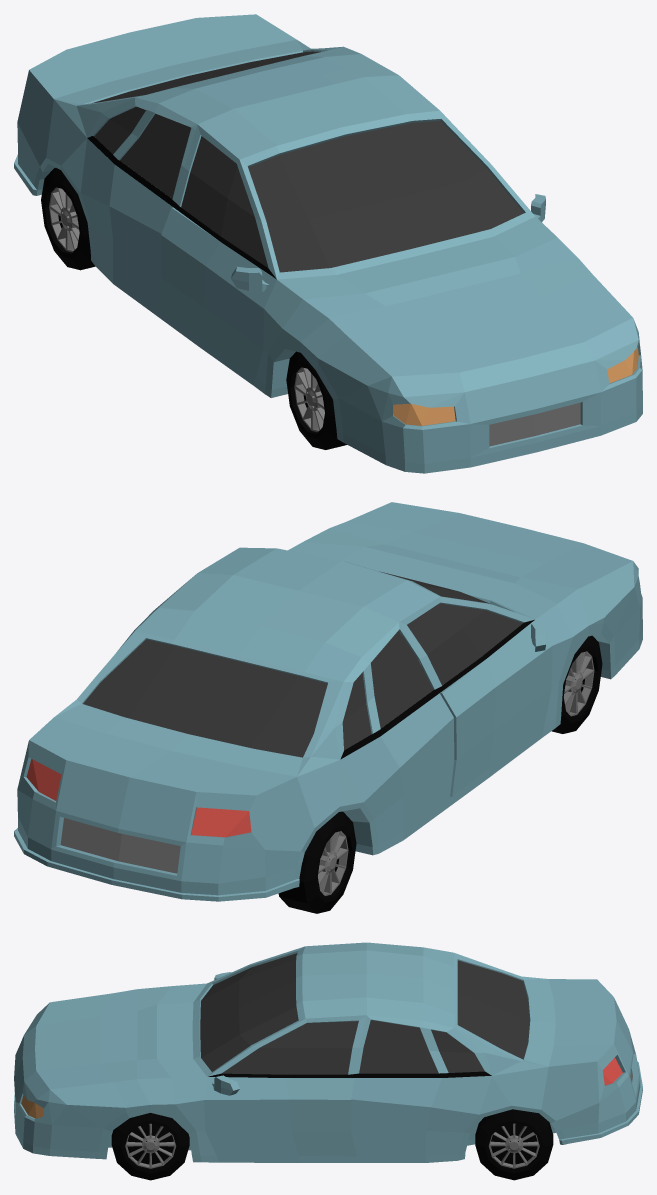
File: NormalCar1.glb
3 renders of one model, top to bottom at view 1: azimuth 30°, elevation 25°; view 2: azimuth 150°, elevation 25°; view 3: azimuth 270°, elevation 25°, orthographic. The views are drawn at different scales.
Visible parts, largest first — view 1: NormalCar1, NormalCar1_BackWheels, NormalCar1_FrontRightWheel; view 2: NormalCar1, NormalCar1_BackWheels, NormalCar1_FrontRightWheel; view 3: NormalCar1, NormalCar1_BackWheels, NormalCar1_FrontLeftWheel.
Boxes of the visible parts, left/top/right/bottom form: NormalCar1: left=14, top=14, right=642, bottom=473; NormalCar1_BackWheels: left=41, top=168, right=95, bottom=270; NormalCar1_FrontRightWheel: left=286, top=351, right=346, bottom=449; NormalCar1: left=14, top=502, right=642, bottom=901; NormalCar1_BackWheels: left=278, top=811, right=356, bottom=913; NormalCar1_FrontRightWheel: left=552, top=635, right=602, bottom=733; NormalCar1: left=14, top=942, right=642, bottom=1162; NormalCar1_BackWheels: left=475, top=1109, right=553, bottom=1180; NormalCar1_FrontLeftWheel: left=111, top=1113, right=189, bottom=1180.
Bounding box in the file's own units: 1.81 × 1.18 × 4.22.
